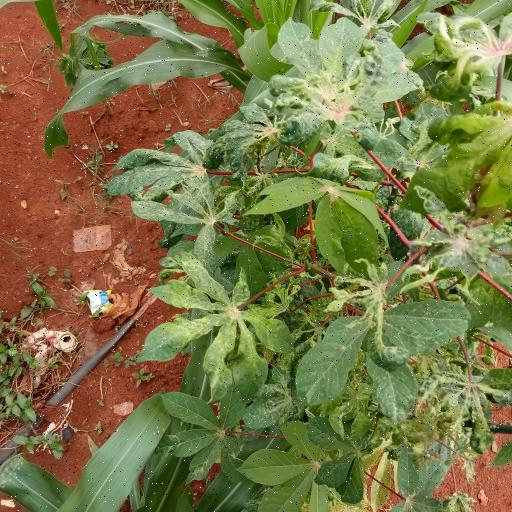Cassava_Mosaic: (298, 300, 469, 418), (140, 263, 288, 396), (268, 18, 388, 128), (105, 130, 217, 206), (132, 184, 241, 259), (162, 385, 242, 481)
